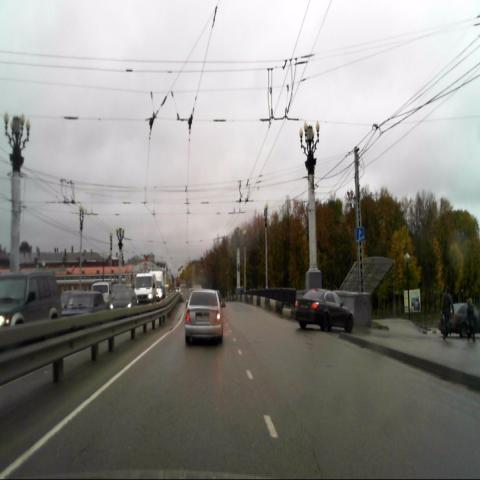6_6: (356, 228, 363, 241)
